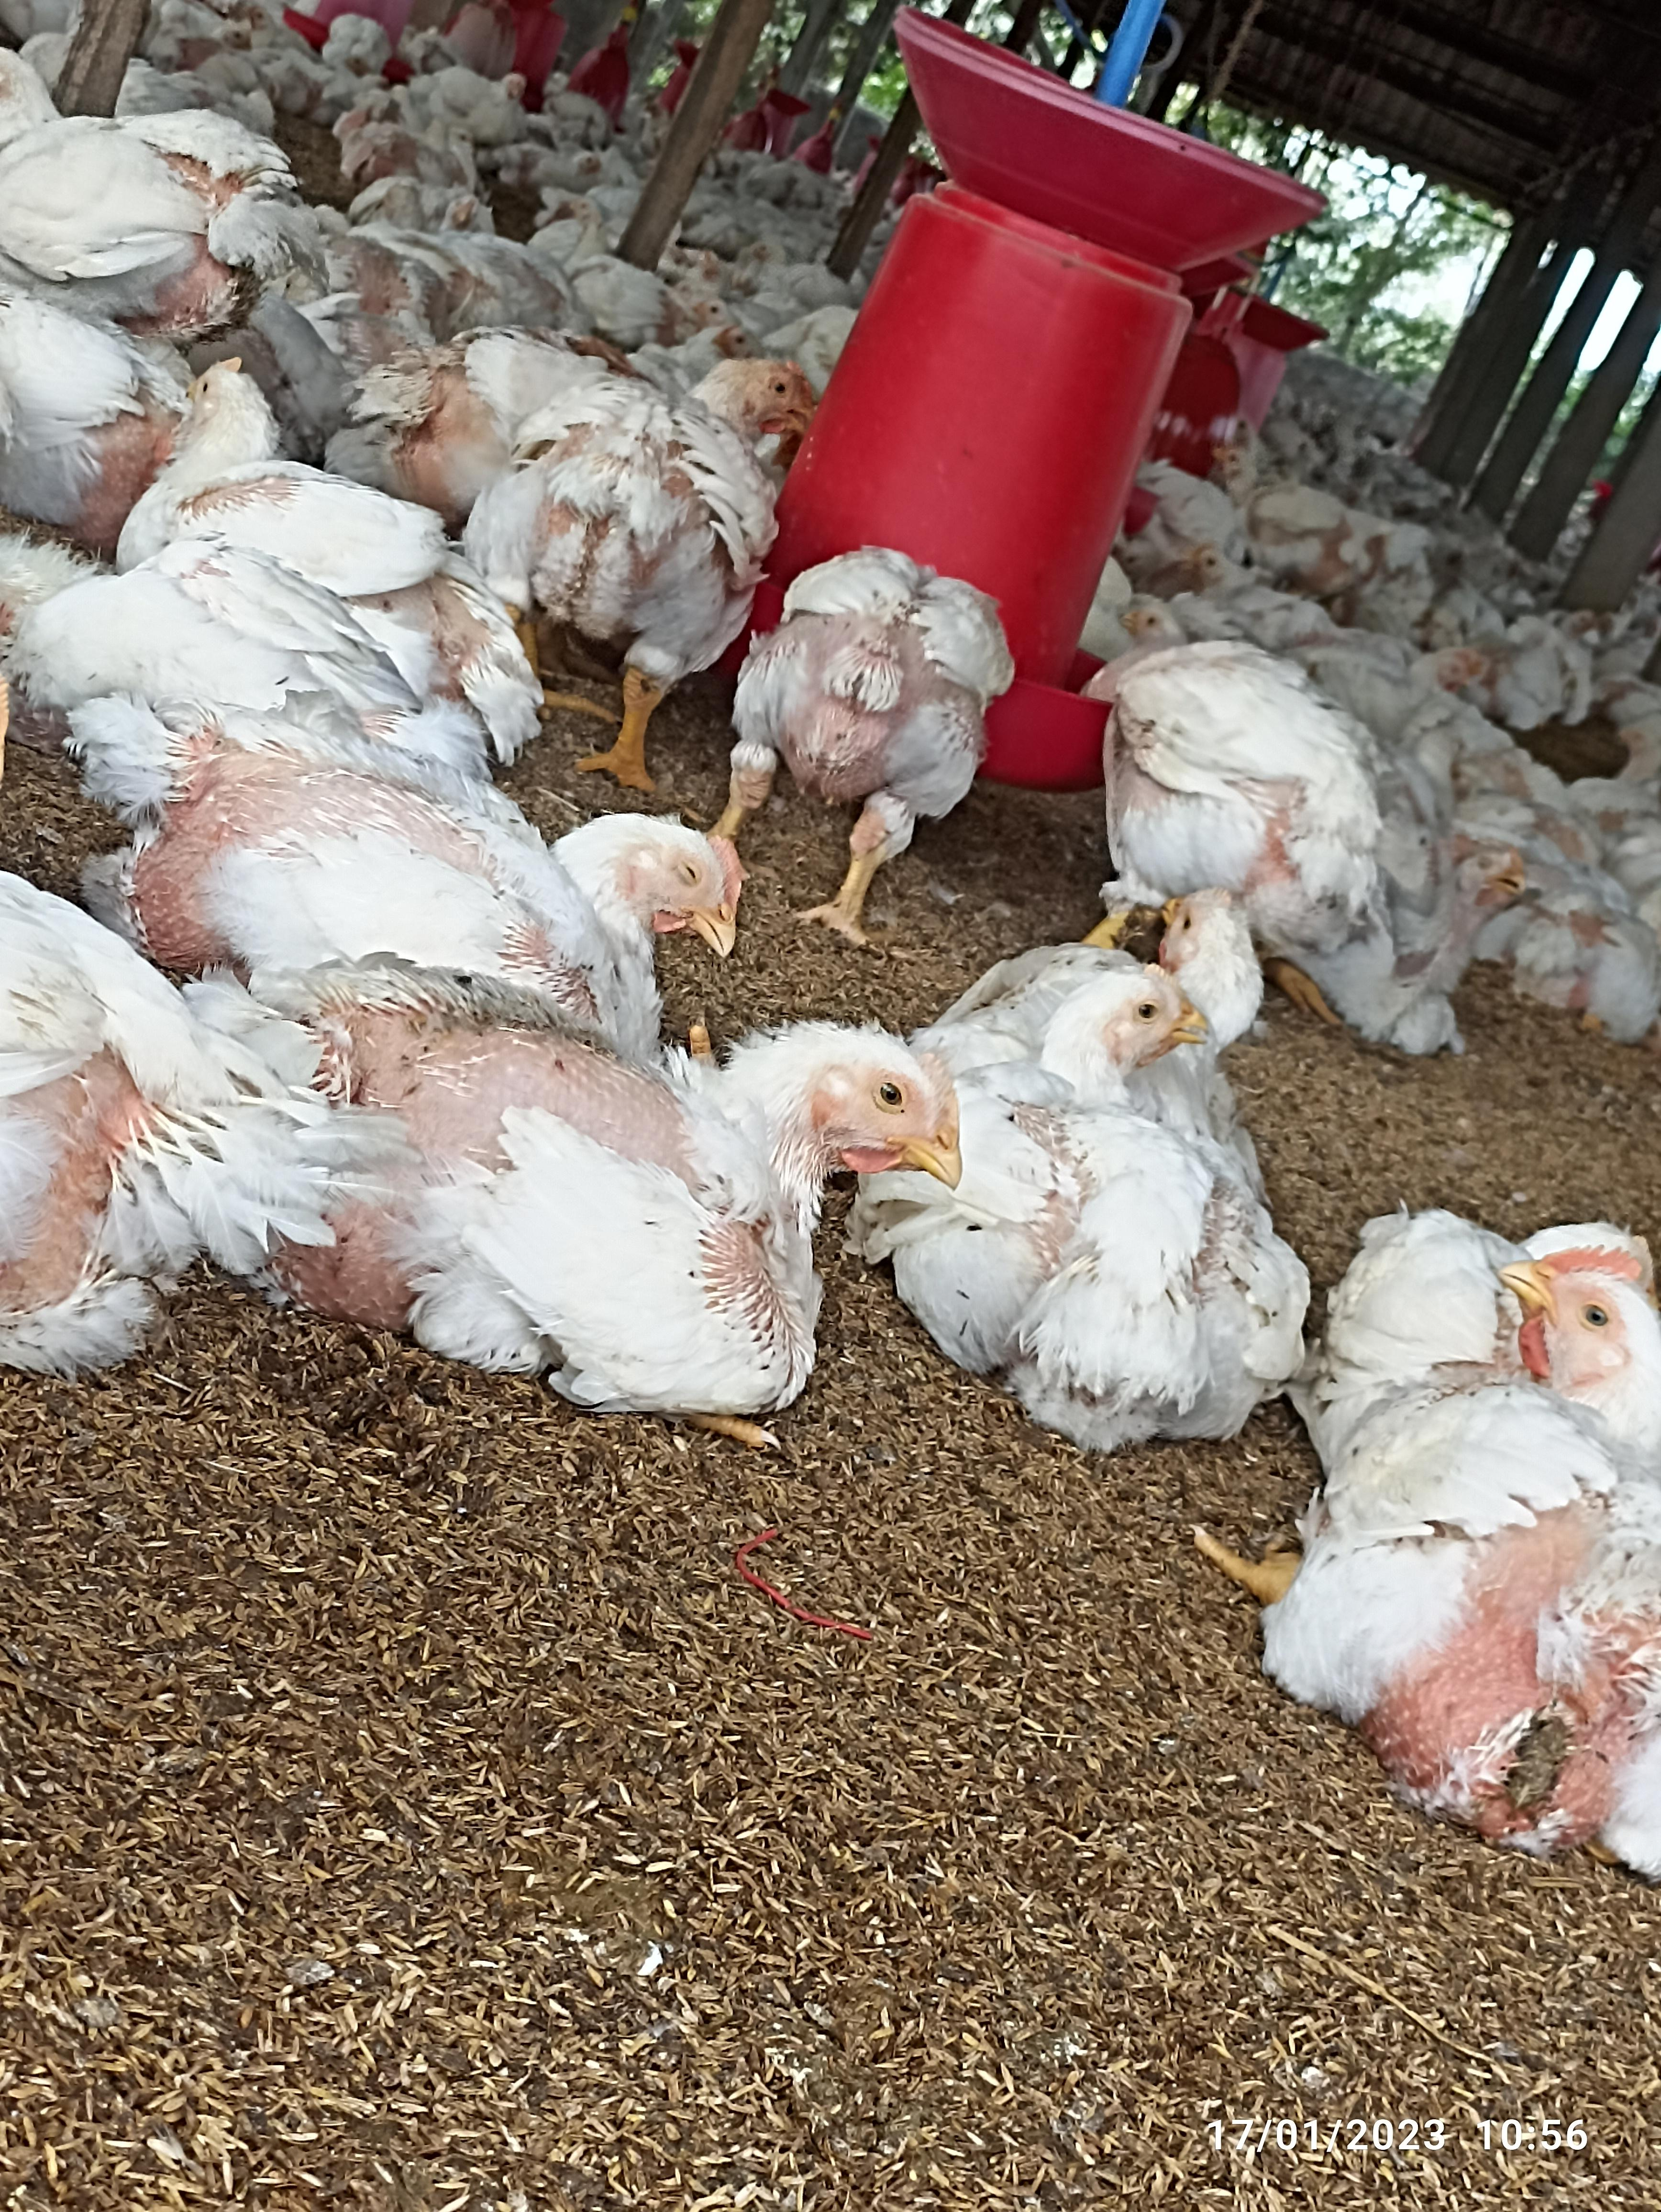Pollos: (288, 998, 963, 1410), (1293, 1221, 1661, 1868), (124, 745, 740, 1029), (1101, 600, 1425, 980), (963, 975, 1220, 1376), (489, 347, 825, 637), (150, 347, 468, 618), (743, 546, 1007, 813)
